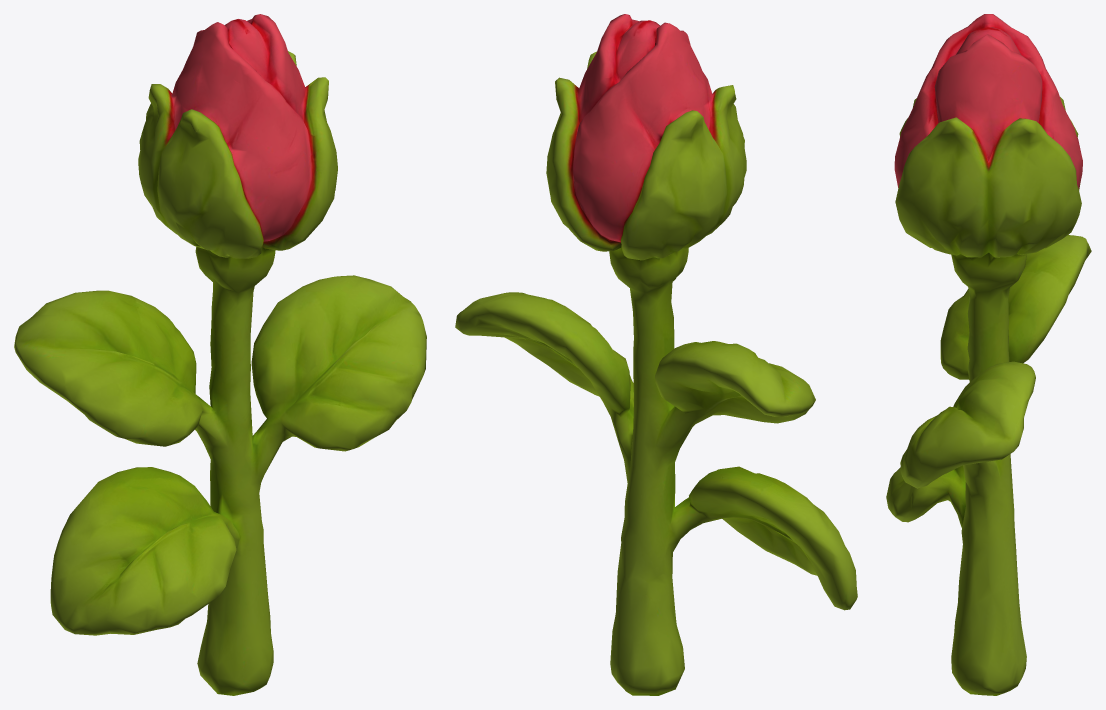
The model's file is rose_s3.glb.
3 views of the same model, side by side, from view 1: azimuth 30°, elevation 25°; view 2: azimuth 150°, elevation 25°; view 3: azimuth 270°, elevation 25° (orthographic).
Visible parts, largest first — view 1: tripo_node_08c7e544-cd16-49e5-ab16-aca954ca189f; view 2: tripo_node_08c7e544-cd16-49e5-ab16-aca954ca189f; view 3: tripo_node_08c7e544-cd16-49e5-ab16-aca954ca189f.
Part boxes in pixels (x1=…): tripo_node_08c7e544-cd16-49e5-ab16-aca954ca189f: x1=14, y1=14, x2=426, y2=695; tripo_node_08c7e544-cd16-49e5-ab16-aca954ca189f: x1=455, y1=14, x2=857, y2=695; tripo_node_08c7e544-cd16-49e5-ab16-aca954ca189f: x1=886, y1=14, x2=1091, y2=695.
Size of the model in its own units: 0.5904 by 1 by 0.2795.
1 material, 1 textured.
